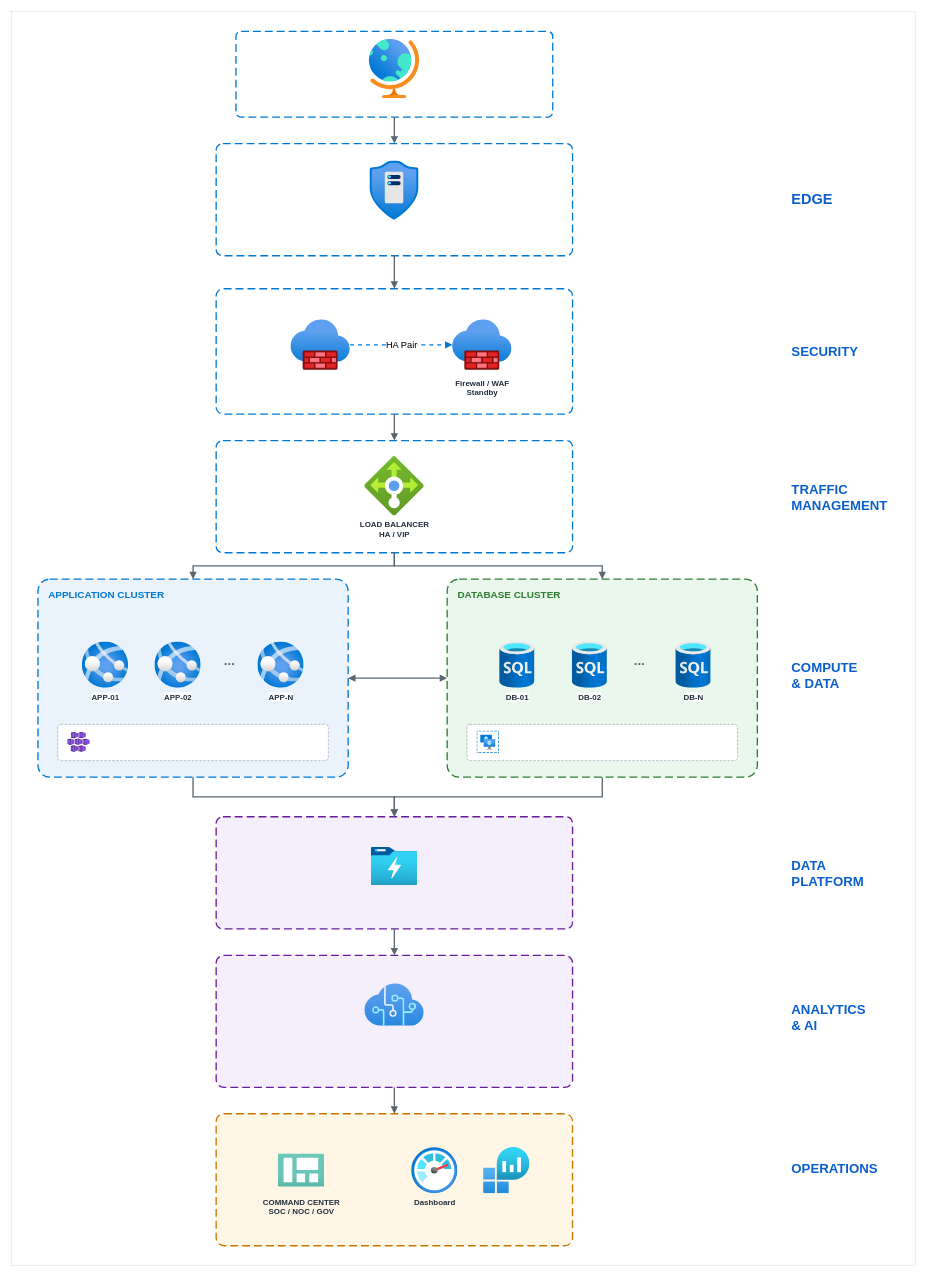
This 946x1276 diagram has some shape labels left out. The shapes that lost their labels are listed below. From the top down, each one's centre as x and y in pixels, then its label:
At point (394, 68): "INTERNET / GOV CLOUD".
At point (394, 190): "EDGE ROUTER / DDoS PROTECTION".
At point (320, 344): "Firewall / WAF Active".
At point (394, 866): "ONE DATA / DATA LAKE / DWH".
At point (394, 1004): "AI / ANALYTICS ML / BI / BIG DATA".
At point (506, 1170): "Log Analytics Workspace".
